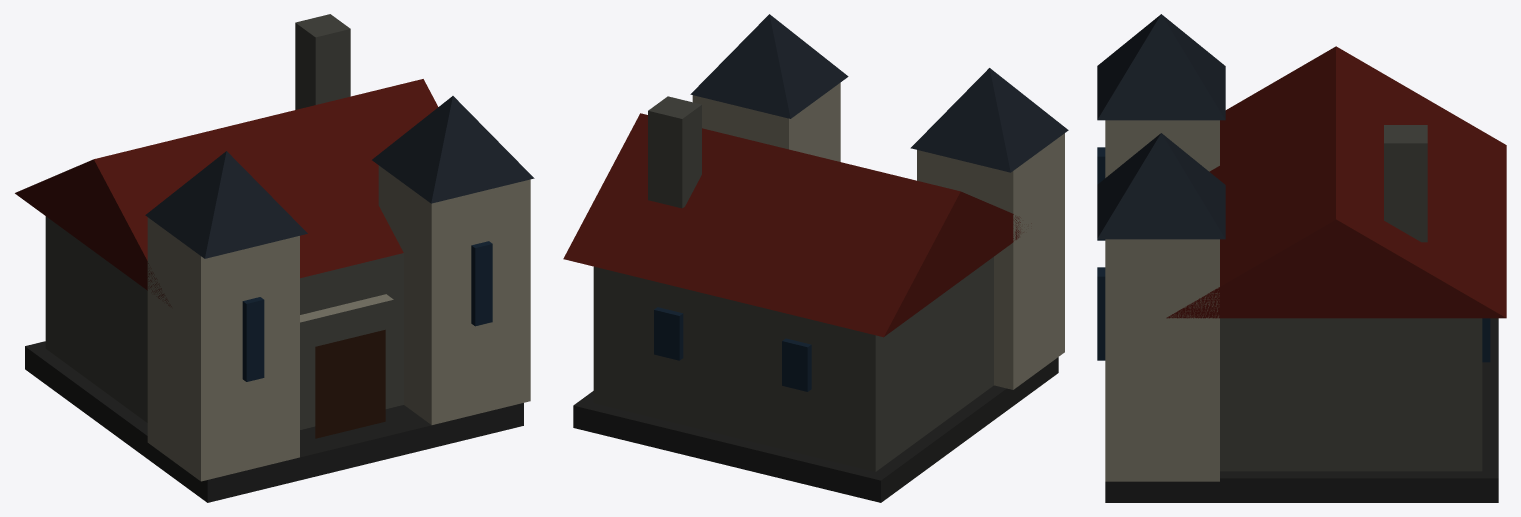
Rendered from house_t3_v3.glb.
The picture shows the model from 3 angles, left to right: view 1: azimuth 30°, elevation 25°; view 2: azimuth 150°, elevation 25°; view 3: azimuth 270°, elevation 25°; orthographic projection. The views are drawn at different scales.
Parts seen in each view (by area): view 1: house_t3_v3; view 2: house_t3_v3; view 3: house_t3_v3.
Boxes of the visible parts, x1=… form: house_t3_v3: x1=15, y1=14, x2=534, y2=502; house_t3_v3: x1=563, y1=14, x2=1068, y2=502; house_t3_v3: x1=1097, y1=14, x2=1506, y2=502.
Size of the model in its own units: 0.75 by 0.7 by 0.75.
Materials: 1 (1 with a texture image).
